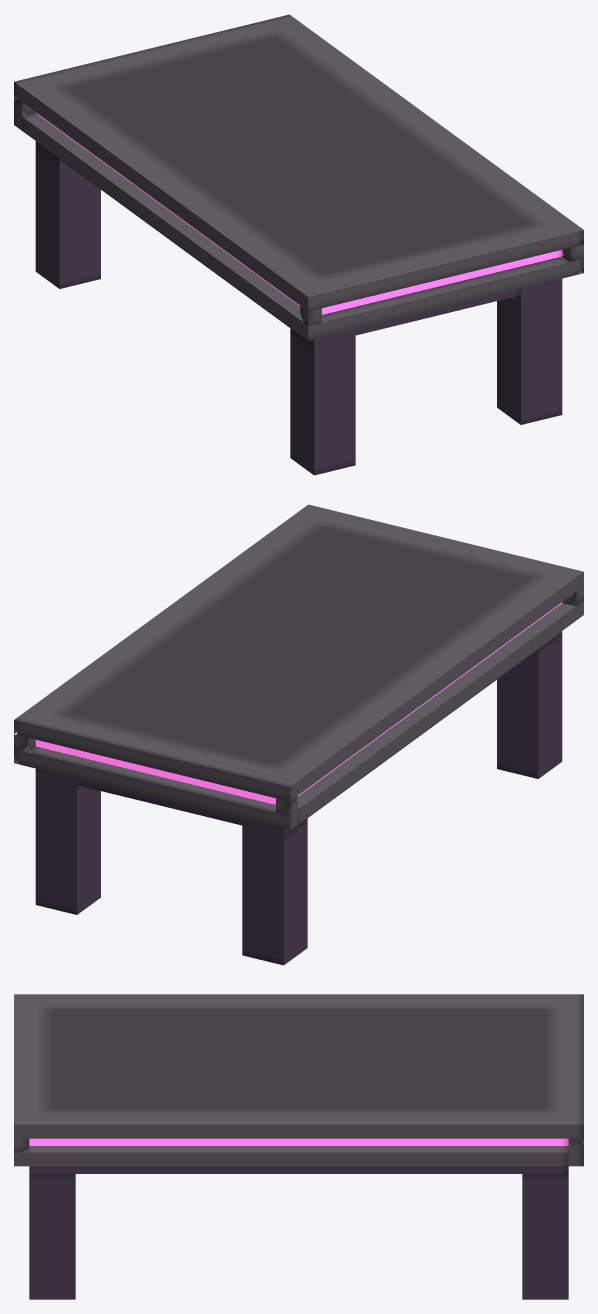
The model's file is stolik_kawowy_neo.dae.
3 renders of one model, top to bottom at view 1: azimuth 30°, elevation 25°; view 2: azimuth 150°, elevation 25°; view 3: azimuth 270°, elevation 25°, orthographic. The views are drawn at different scales.
Parts seen in each view (by area): view 1: Content; view 2: Content; view 3: Content.
Boxes of the visible parts, x1,y1,x2,y2 form: Content: [14, 14, 583, 475]; Content: [14, 504, 583, 965]; Content: [14, 994, 583, 1299].
Size of the model in its own units: 20 by 13 by 37.
1 material, 1 textured.
